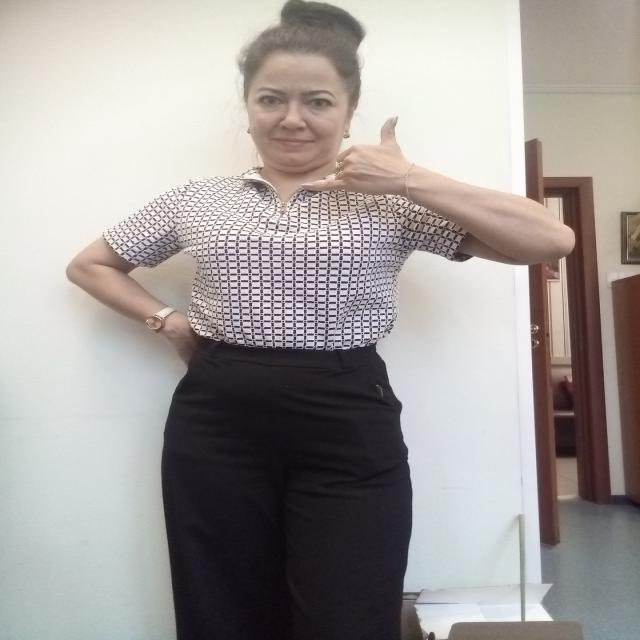call: (296, 114, 415, 198)
